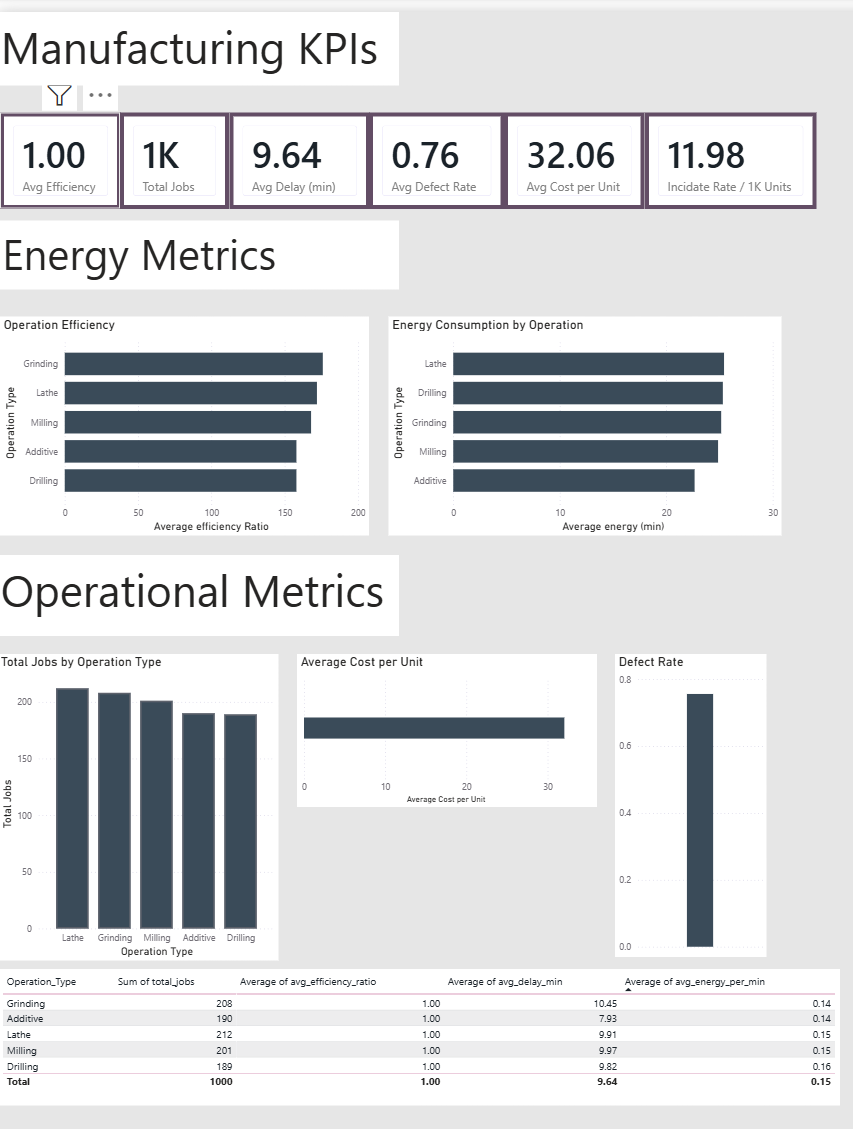

What the dashboard file says about the page in this screenshot:
{"tool":"powerbi","page":{"name":"Page 1","canvas":[1200,1600],"ordinal":0},"visuals":[{"type":"clusteredColumnChart","title":"Total Jobs by Operation Type","fields":{"Category":["gold_hybrid_manufacturing.Operation_Type"],"Y":["Sum(gold_hybrid_manufacturing.total_jobs)"]},"box":[0.5,856.4,375,408.8],"z":0},{"type":"clusteredBarChart","title":"Operation Efficiency","fields":{"Y":["Sum(gold_hybrid_manufacturing.avg_efficiency_ratio)"],"Category":["gold_hybrid_manufacturing.Operation_Type"]},"box":[4.5,406.7,492,292],"z":1000},{"type":"barChart","title":"Energy Consumption by Operation","fields":{"Category":["gold_hybrid_manufacturing.Operation_Type"],"Y":["Sum(gold_hybrid_manufacturing.avg_energy_per_min)"]},"box":[522.5,406.7,524,292],"z":2000},{"type":"tableEx","fields":{"Values":["gold_hybrid_manufacturing.Operation_Type","Sum(gold_hybrid_manufacturing.total_jobs)","Avg(gold_hybrid_manufacturing.avg_efficiency_ratio)","Avg(gold_hybrid_manufacturing.avg_delay_min)","Avg(gold_hybrid_manufacturing.avg_energy_per_min)"]},"box":[2.5,1276.7,1122,182],"z":3000},{"type":"barChart","title":"Average Cost per Unit","fields":{"Y":["Avg(gold_manufacturing_defects.avg_cost_per_unit)"]},"box":[400,856,400,204],"z":4000},{"type":"columnChart","title":"Defect Rate","fields":{"Y":["Sum(gold_manufacturing_defects.avg_defect_rate)"]},"box":[824.5,856.7,202,404],"z":5000},{"type":"cardVisual","fields":{"Data":["Sum(gold_hybrid_manufacturing.total_jobs)"]},"box":[164.3,133.9,145,128.8],"z":6000},{"type":"cardVisual","fields":{"Data":["Avg(gold_hybrid_manufacturing.avg_delay_min)"]},"box":[309.3,133.9,187.5,128.8],"z":7000},{"type":"cardVisual","fields":{"Data":["Avg(gold_hybrid_manufacturing.avg_efficiency_ratio)"]},"box":[3,133.9,161.2,128.8],"z":8000},{"type":"cardVisual","fields":{"Data":["Avg(gold_manufacturing_defects.avg_defect_rate)"]},"box":[496.8,133.9,180,128.8],"z":9000},{"type":"cardVisual","fields":{"Data":["Avg(gold_manufacturing_defects.avg_cost_per_unit)"]},"box":[676.8,133.9,187.5,128.8],"z":10000},{"type":"cardVisual","fields":{"Data":["Avg(gold_manufacturing_defects.avg_incident_rate_per_1k_units)"]},"box":[864.3,133.9,228.8,128.8],"z":11000},{"type":"textbox","box":[2,278,534,92],"z":11002},{"type":"textbox","box":[0,724,536,108],"z":11003},{"type":"textbox","box":[0,0,536,98],"z":11004}]}

Visuals, with their boxes in screenshot pixels (x1, y1, x2, y2), scaled from the page's 1200x1600 canvas onto the 853x1129 screenshot:
"Total Jobs by Operation Type" clusteredColumnChart: left=0, top=604, right=267, bottom=893
"Operation Efficiency" clusteredBarChart: left=3, top=287, right=353, bottom=493
"Energy Consumption by Operation" barChart: left=371, top=287, right=744, bottom=493
tableEx - gold_hybrid_manufacturing.Operation_Type x Sum(gold_hybrid_manufacturing.total_jobs): left=2, top=901, right=799, bottom=1029
"Average Cost per Unit" barChart: left=284, top=604, right=569, bottom=748
"Defect Rate" columnChart: left=586, top=605, right=730, bottom=890
cardVisual - Sum(gold_hybrid_manufacturing.total_jobs): left=117, top=94, right=220, bottom=185
cardVisual - Avg(gold_hybrid_manufacturing.avg_delay_min): left=220, top=94, right=353, bottom=185
cardVisual - Avg(gold_hybrid_manufacturing.avg_efficiency_ratio): left=2, top=94, right=117, bottom=185
cardVisual - Avg(gold_manufacturing_defects.avg_defect_rate): left=353, top=94, right=481, bottom=185
cardVisual - Avg(gold_manufacturing_defects.avg_cost_per_unit): left=481, top=94, right=614, bottom=185
cardVisual - Avg(gold_manufacturing_defects.avg_incident_rate_per_1k_units): left=614, top=94, right=777, bottom=185
textbox: left=1, top=196, right=381, bottom=261
textbox: left=0, top=511, right=381, bottom=587
textbox: left=0, top=0, right=381, bottom=69
